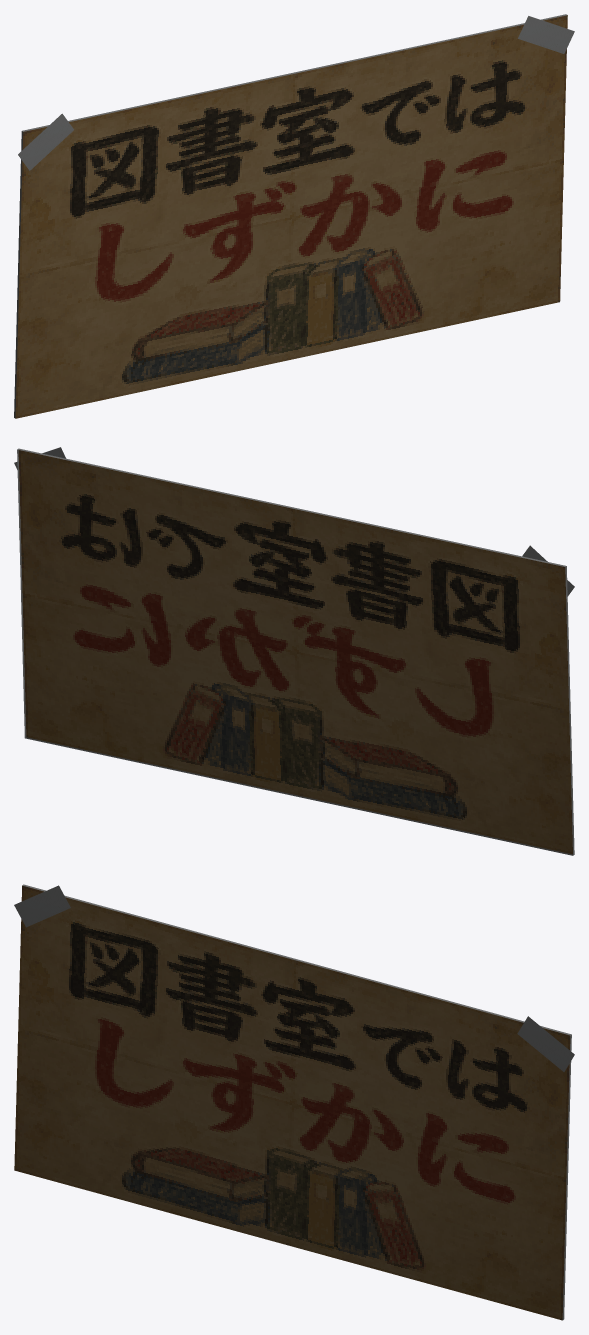
The model's file is prop_poster-toshoshitsu-2.glb.
The picture shows the model from 3 angles, top to bottom: view 1: azimuth 30°, elevation 25°; view 2: azimuth 150°, elevation 25°; view 3: azimuth 330°, elevation 25°; orthographic projection.
Parts seen in each view (by area): view 1: prop_poster-toshoshitsu-2; view 2: prop_poster-toshoshitsu-2; view 3: prop_poster-toshoshitsu-2.
Part boxes in pixels (box(x1,y1,x2,y2)): prop_poster-toshoshitsu-2: box(14, 14, 574, 418); prop_poster-toshoshitsu-2: box(14, 447, 574, 855); prop_poster-toshoshitsu-2: box(14, 884, 574, 1320).
Size of the model in its own units: 0.6295 by 0.3356 by 0.0055.
Materials: 2 (2 with a texture image).
